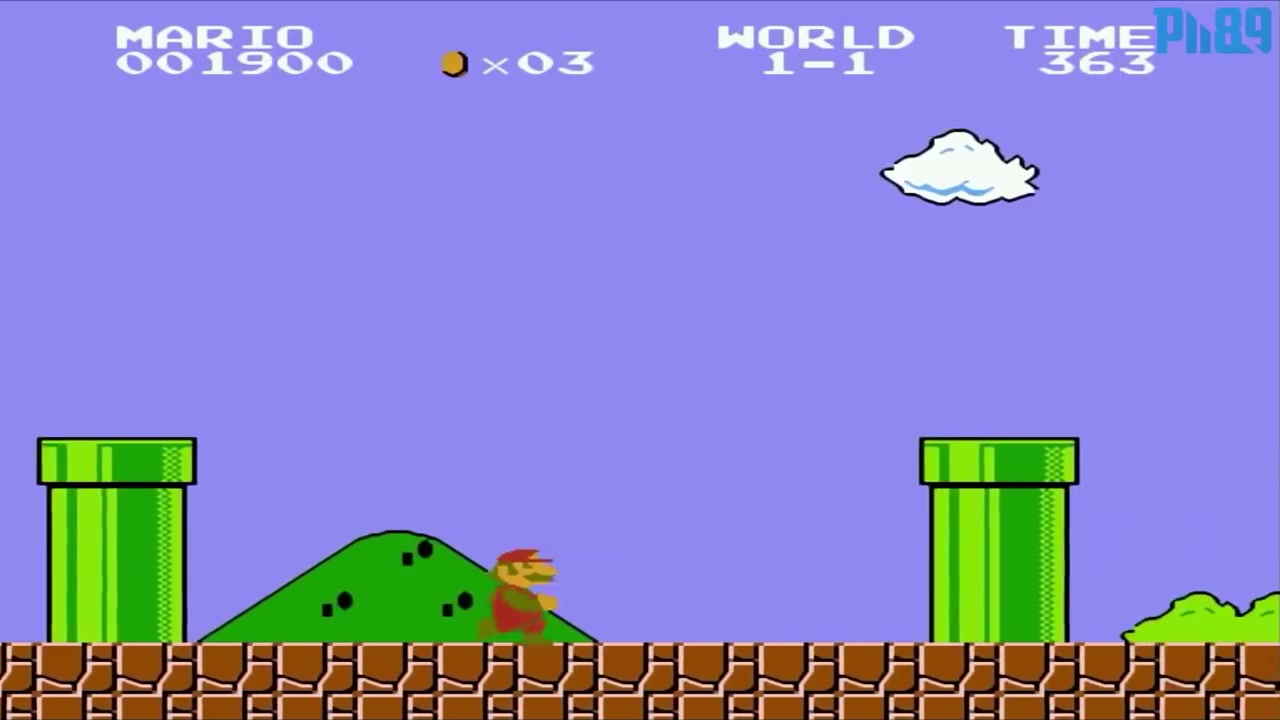mario: (473, 543, 564, 642)
